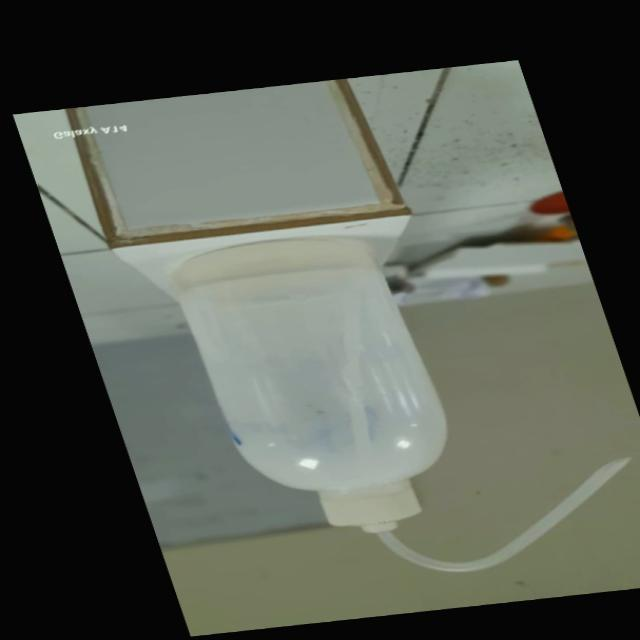Washing Bottle: (148, 214, 640, 605)
